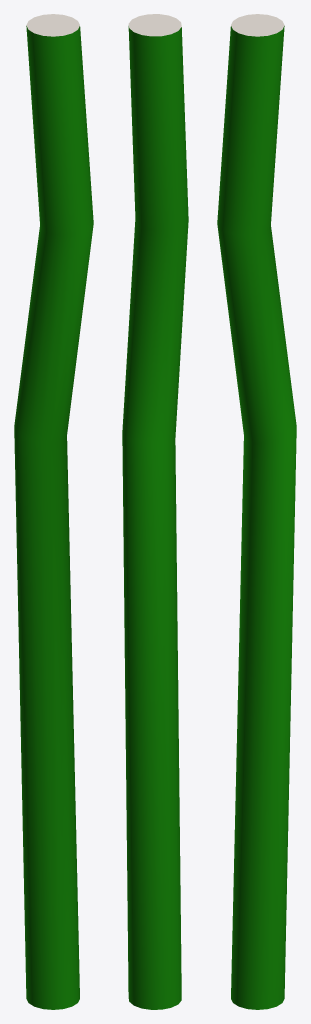
The model's file is Prop_Daisy_Stem_2.obj.
The picture shows the model from 3 angles, left to right: view 1: azimuth 90°, elevation 25°; view 2: azimuth 150°, elevation 25°; view 3: azimuth 270°, elevation 25°; orthographic projection.
Visible parts, largest first — view 1: Stem, Hidden; view 2: Stem, Hidden; view 3: Stem, Hidden.
Part boxes in pixels (left/top/right/bottom): Stem: left=14, top=26, right=93, bottom=1009; Hidden: left=26, top=14, right=79, bottom=36; Stem: left=122, top=26, right=188, bottom=1009; Hidden: left=128, top=14, right=181, bottom=36; Stem: left=217, top=26, right=296, bottom=1009; Hidden: left=231, top=14, right=284, bottom=36.
Size of the model in its own units: 0.2 by 4 by 0.2961.
